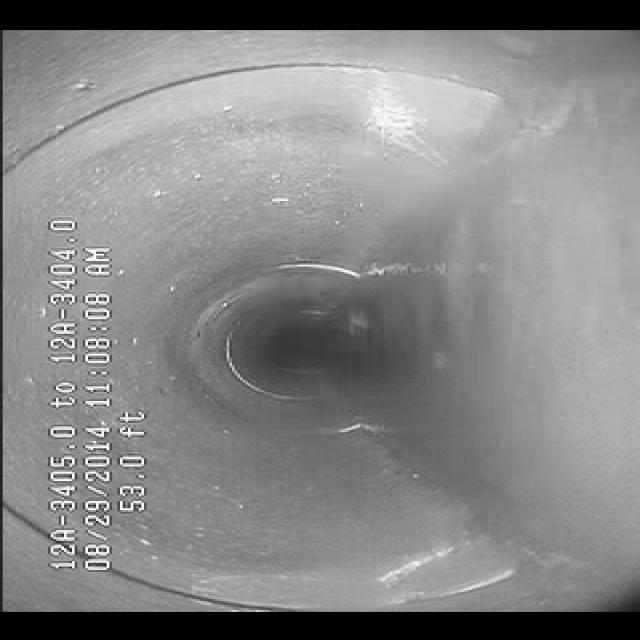Crack: (198, 528, 455, 598)
